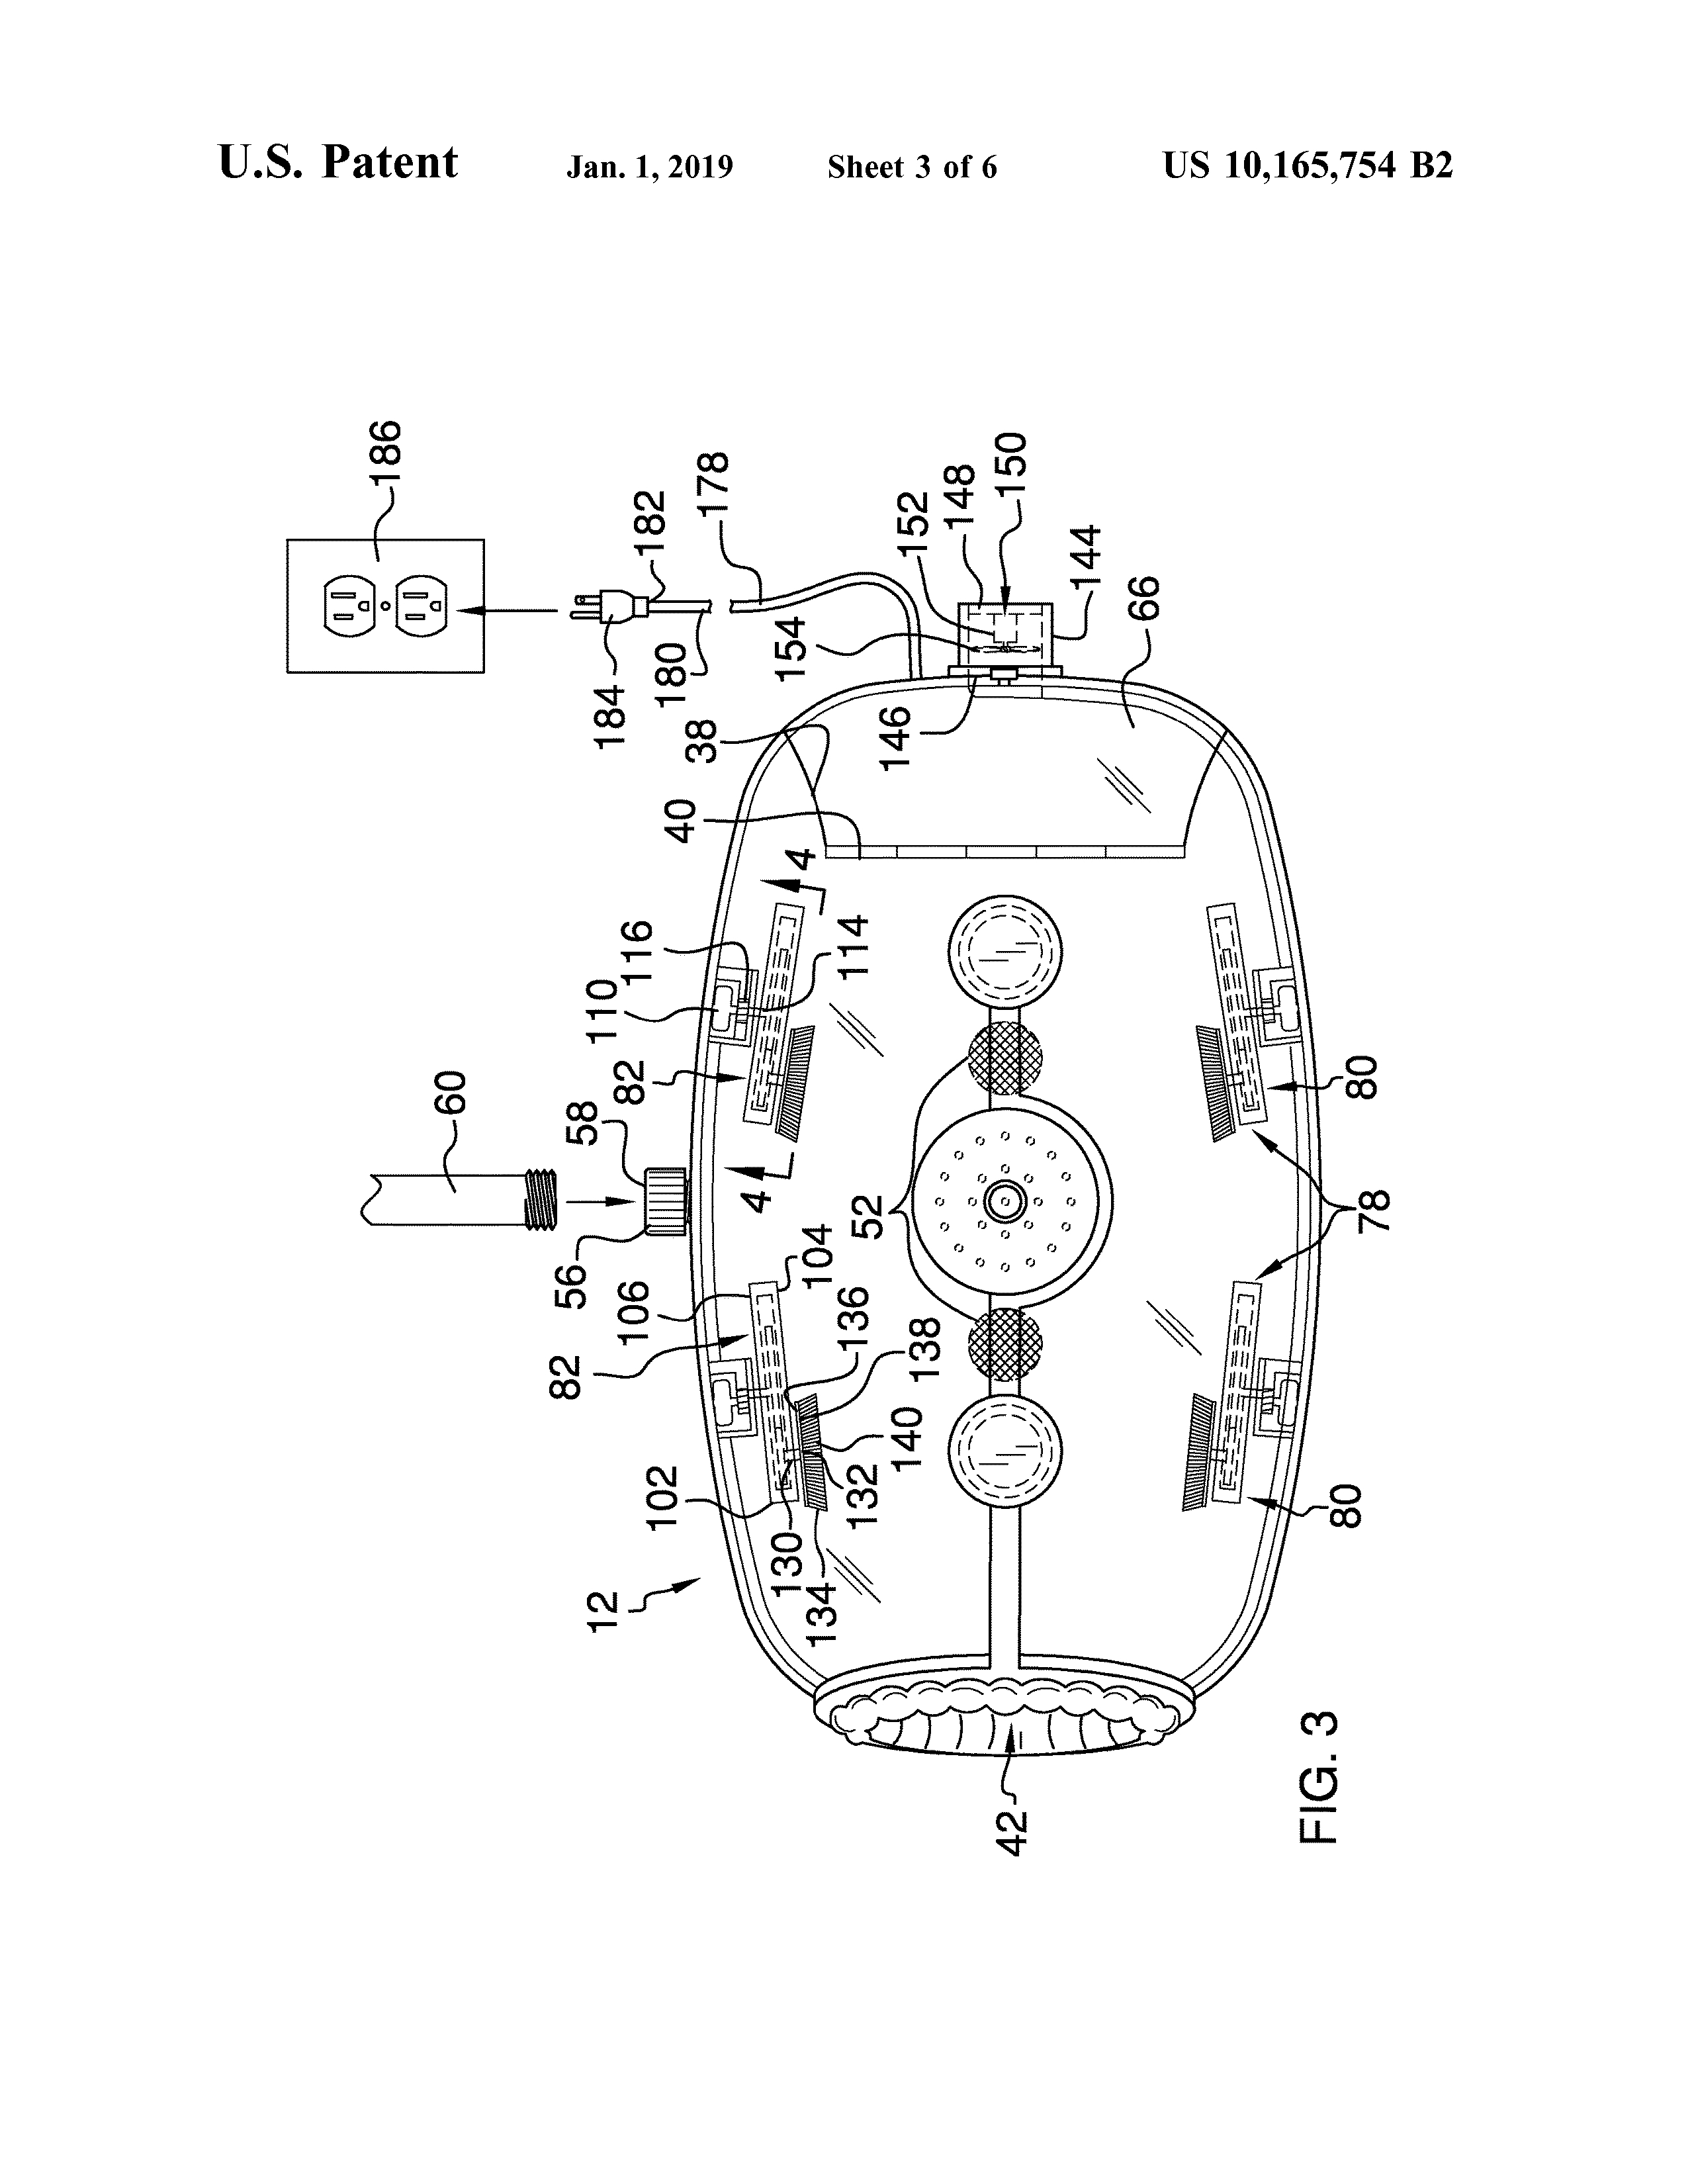patent image: (242, 336, 1427, 1941)
